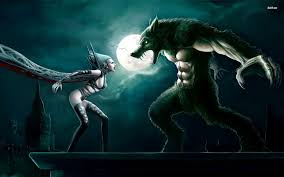Lobo: (119, 15, 187, 63)
